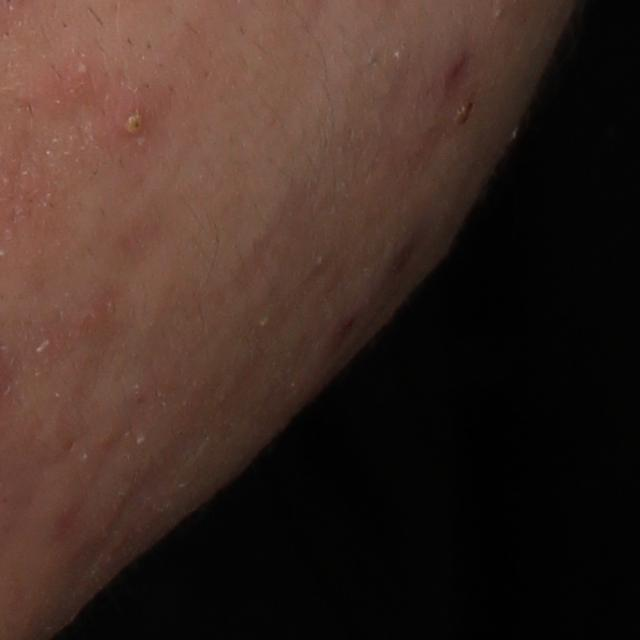papule: (441, 52, 470, 88)
pustule: (114, 98, 154, 142)
